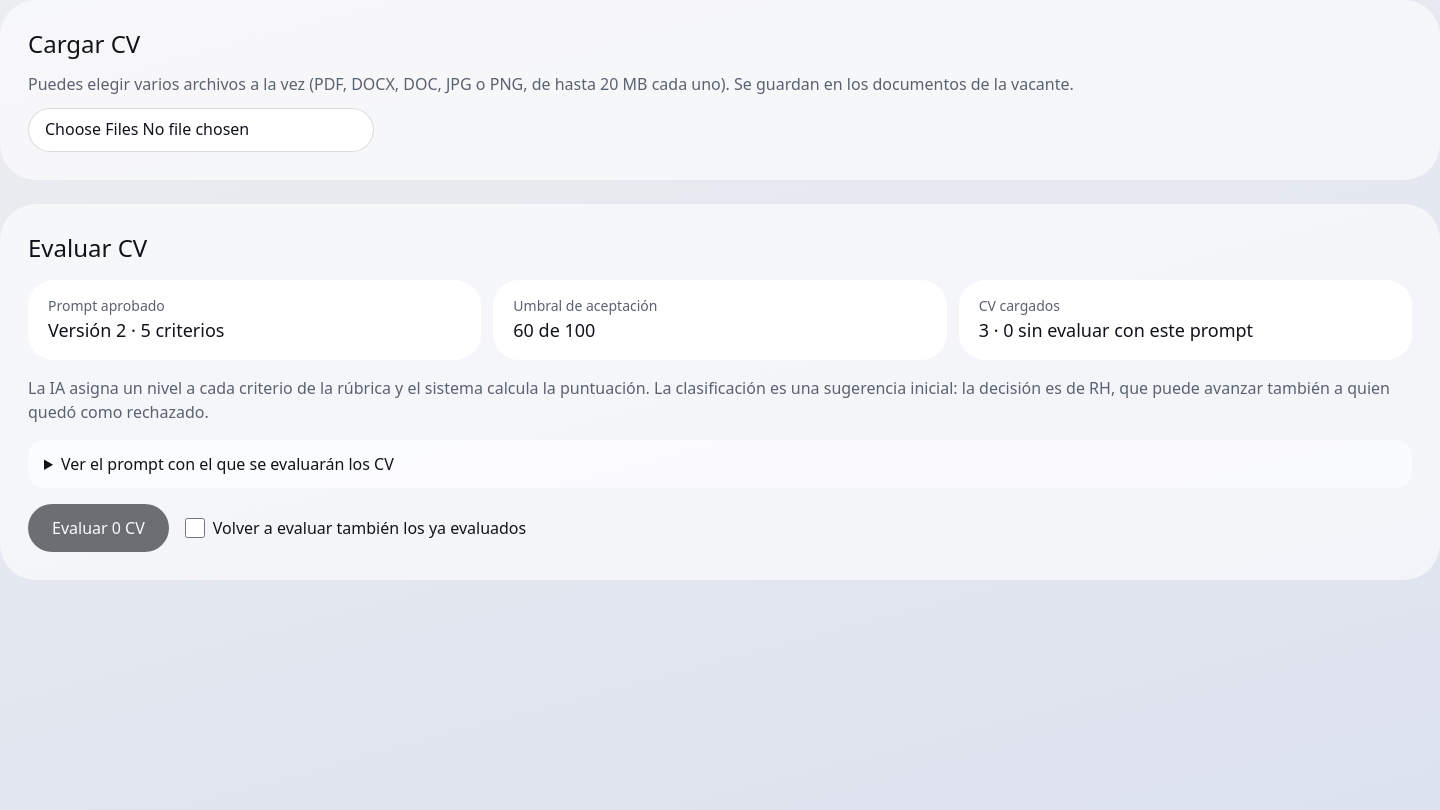
CvEvaluationTab › muestra el motivo cuando no se puede iniciar y permite repetir la evaluación
This screenshot has width=1440, height=810.
Expected: the button "Evaluar 0 CV" is disabled, [28,504,169,552]
Expected: the text "mostrará el resultado nuevo" is not shown
Click the checkbox labelled "Volver a evaluar también los ya evaluados" at (195, 528), box [185,518,205,538]
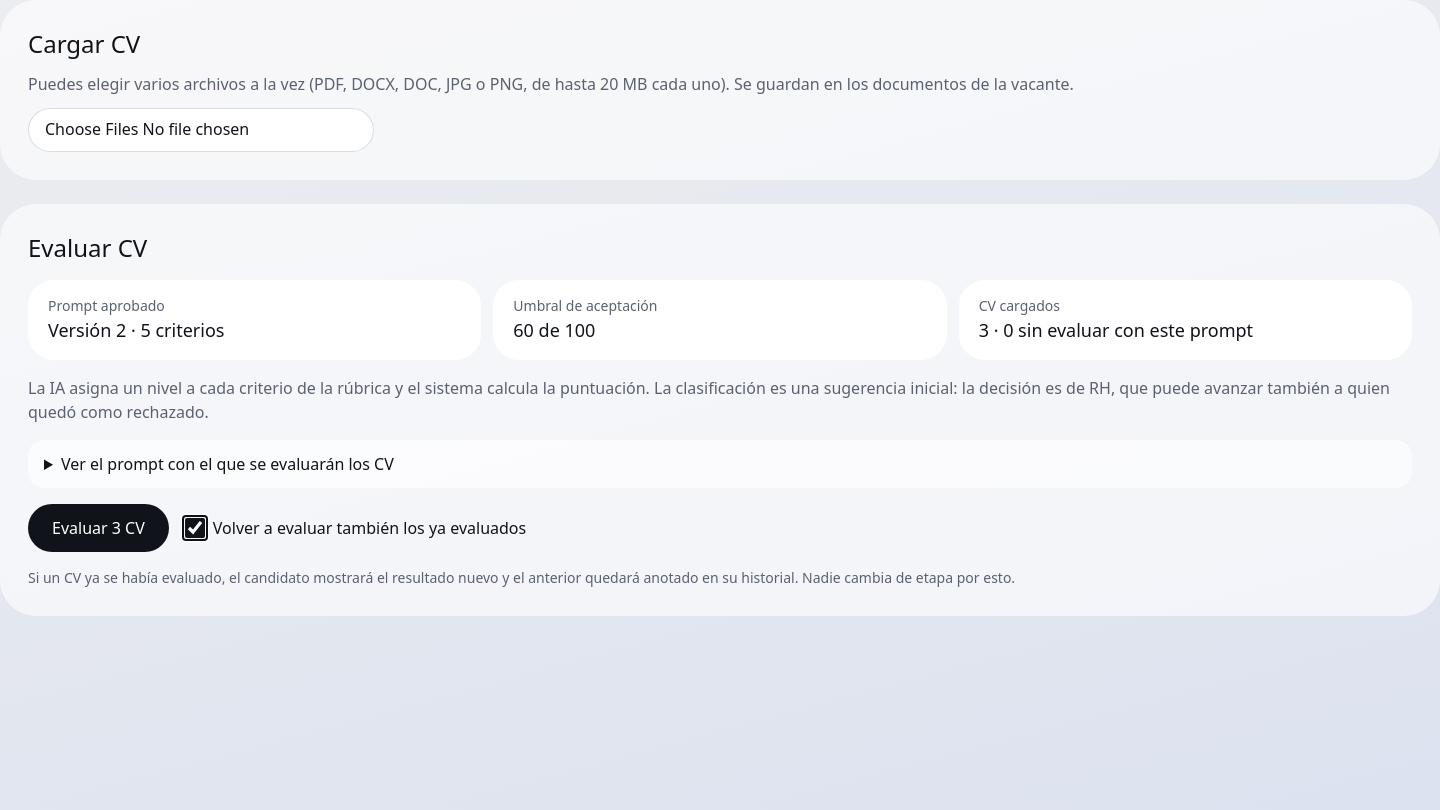
Expected: the text "mostrará el resultado nuevo" is shown, [28,568,1015,587]
Click the button "Evaluar 3 CV" at (98, 528), box [28,504,169,552]
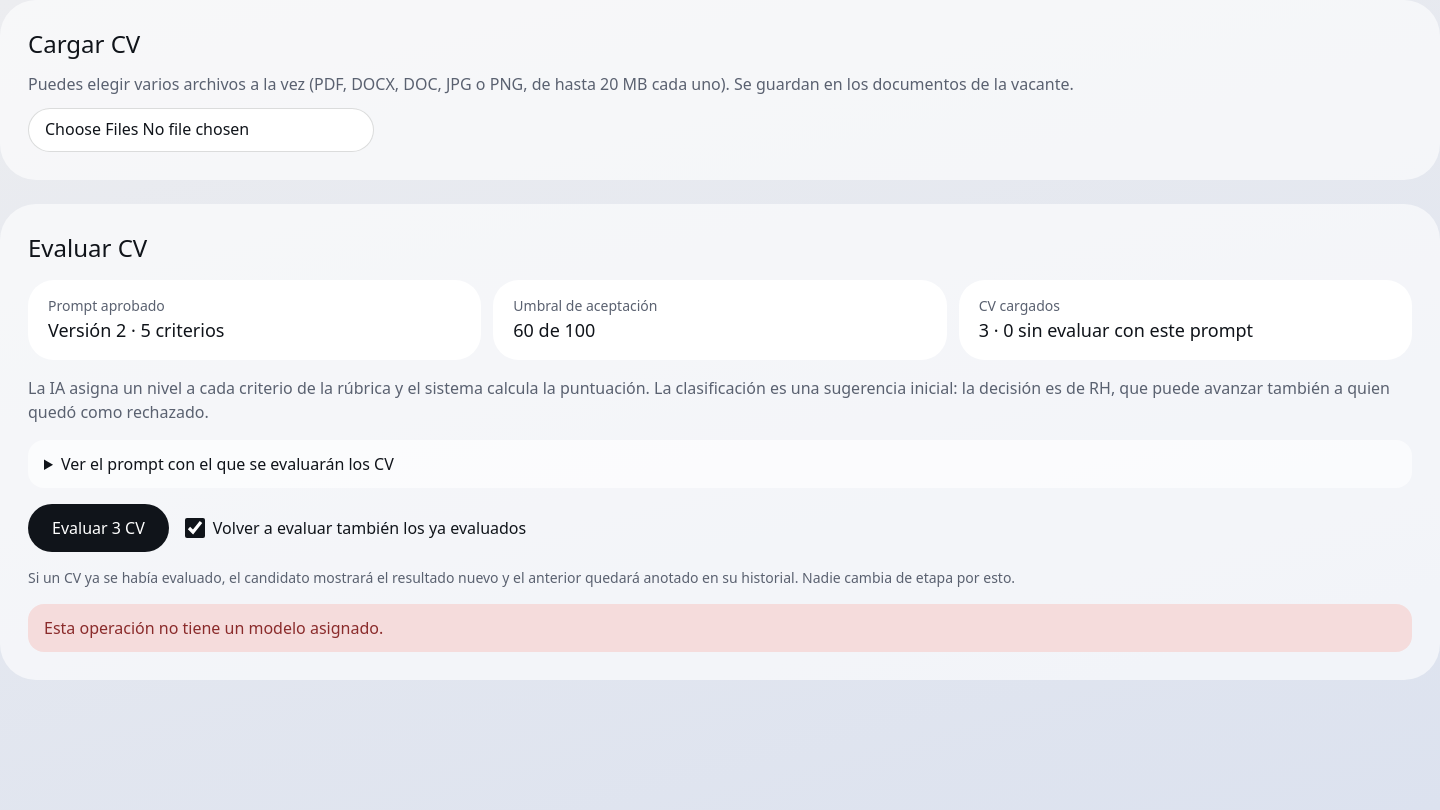
Expected: the message shows "modelo asignado", [44,617,383,639]
